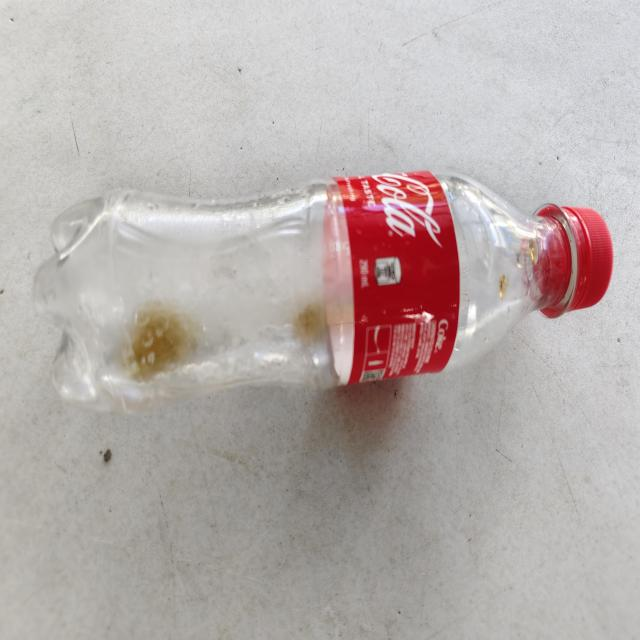Bottle: (34, 171, 613, 411)
